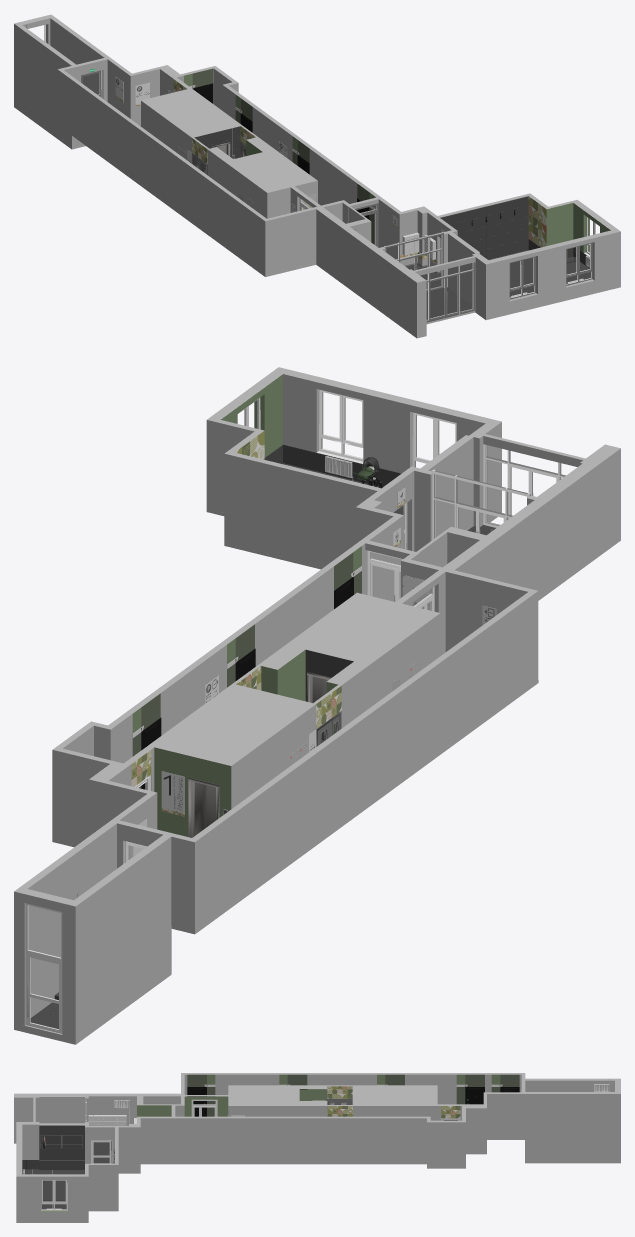
Rendered from OLIVIA_MOP_NEW_21_07_26.glb.
The picture shows the model from 3 angles, top to bottom: view 1: azimuth 30°, elevation 25°; view 2: azimuth 150°, elevation 25°; view 3: azimuth 270°, elevation 25°; orthographic projection. The views are drawn at different scales.
Visible parts, largest first — view 1: Box2131645134, Plane097, AR_Dvеr__Odnopol_nаy_Аlyminiеvаy__GOST23747-2015_DАV_G_Op_P_, JK_Oliviy_21_07_26_3ds, Plane001, Box271, Box2131644938, Plane024; view 2: Box2131645134, AR_Dvеr__Odnopol_nаy_Аlyminiеvаy__GOST23747-2015_DАV_G_Op_P_, JK_Oliviy_21_07_26_3ds, Box271, AR_Dvеr__Odnopol_nаy_Аlyminiеvаy__GOST23747-2015_DАN_G_Op_P_, Lift_portal004, Plane018, Plane020; view 3: Box2131645134, JK_Oliviy_21_07_26_3ds, Plane098, Box271, Plane001, AR_Dvеr__Odnopol_nаy_Аlyminiеvаy__GOST23747-2015_DАV_G_Op_P_, Box2131645140, Box2131644963.
Part boxes in pixels (x1,y1,x2,y2): Box2131645134: [14, 14, 620, 336]; Plane097: [440, 196, 528, 259]; AR_Dvеr__Odnopol_nаy_Аlyminiеvаy__GOST23747-2015_DАV_G_Op_P_: [81, 70, 597, 321]; JK_Oliviy_21_07_26_3ds: [184, 68, 435, 259]; Plane001: [244, 155, 590, 322]; Box271: [14, 103, 620, 338]; Box2131644938: [528, 196, 546, 247]; Plane024: [194, 126, 240, 173]; Box2131645134: [14, 367, 620, 1038]; AR_Dvеr__Odnopol_nаy_Аlyminiеvаy__GOST23747-2015_DАV_G_Op_P_: [124, 390, 565, 863]; JK_Oliviy_21_07_26_3ds: [54, 546, 434, 1000]; Box271: [14, 509, 620, 1044]; AR_Dvеr__Odnopol_nаy_Аlyminiеvаy__GOST23747-2015_DАN_G_Op_P_: [25, 903, 62, 1033]; Lift_portal004: [188, 777, 219, 837]; Plane018: [283, 444, 401, 486]; Plane020: [305, 650, 353, 701]; Box2131645134: [14, 1073, 620, 1221]; JK_Oliviy_21_07_26_3ds: [88, 1074, 519, 1125]; Plane098: [39, 1125, 84, 1169]; Box271: [14, 1138, 620, 1222]; Plane001: [22, 1119, 457, 1209]; AR_Dvеr__Odnopol_nаy_Аlyminiеvаy__GOST23747-2015_DАV_G_Op_P_: [41, 1097, 112, 1210]; Box2131645140: [327, 1106, 460, 1118]; Box2131644963: [327, 1086, 352, 1098].
Size of what is drawn, in the model's own units: 1452 by 461 by 3594.
95 materials, 28 textured.
